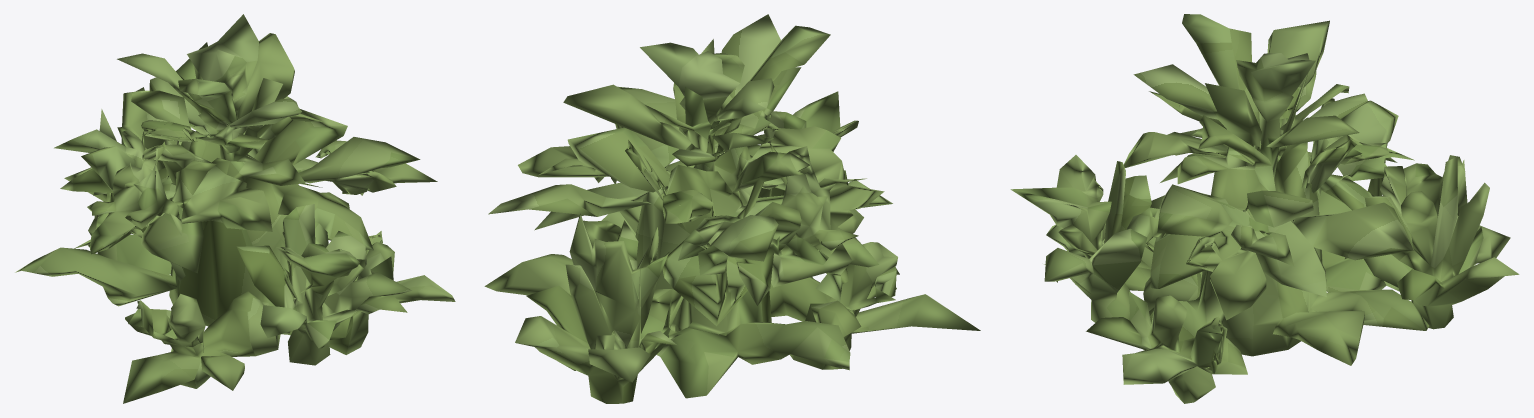
The model's file is gather_herb_cluster.glb.
3 renders of one model, left to right at view 1: azimuth 30°, elevation 25°; view 2: azimuth 150°, elevation 25°; view 3: azimuth 270°, elevation 25°, orthographic. The views are drawn at different scales.
Visible parts, largest first — view 1: tripo_node_781a03d6-e060-4835-b3aa-1dbc78270b06; view 2: tripo_node_781a03d6-e060-4835-b3aa-1dbc78270b06; view 3: tripo_node_781a03d6-e060-4835-b3aa-1dbc78270b06.
Boxes of the visible parts, box(x1,y1,x2,y2) form: tripo_node_781a03d6-e060-4835-b3aa-1dbc78270b06: box(15, 14, 455, 403); tripo_node_781a03d6-e060-4835-b3aa-1dbc78270b06: box(484, 14, 980, 403); tripo_node_781a03d6-e060-4835-b3aa-1dbc78270b06: box(1010, 14, 1519, 403).
Size of the model in its own units: 0.8665 by 0.6822 by 0.9989.
Materials: 1 (1 with a texture image).
